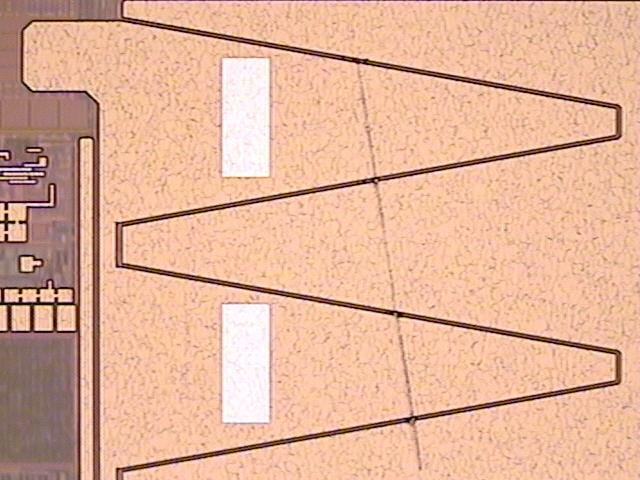SCRATCH: (346, 33, 430, 480)
